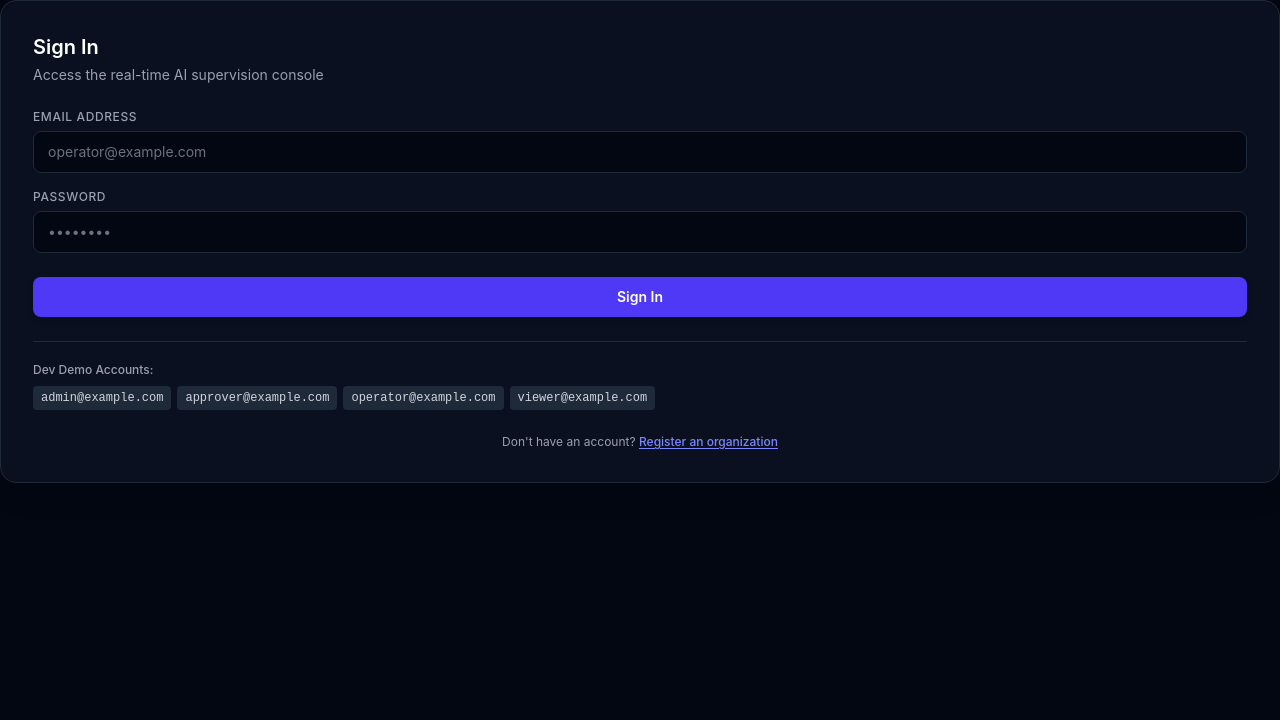
Test: Auth Integration and Unit Tests › 1. Login shows the server error message on a 401
The image size is (1280, 720).
Type "user@example.com" into the field labelled "Email Address" at (640, 152), box 33,131 -> 1247,173
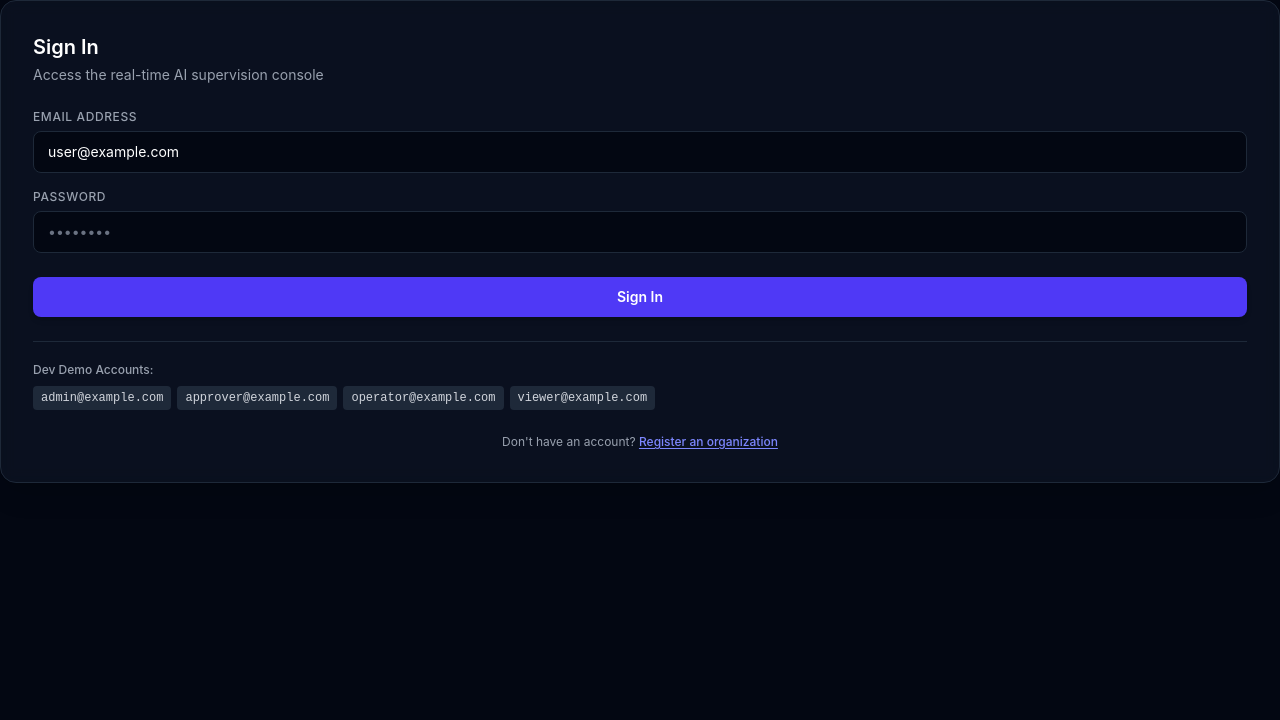
Type "WrongPassword123" into the password field labelled "Password" at (640, 232), box 33,211 -> 1247,253
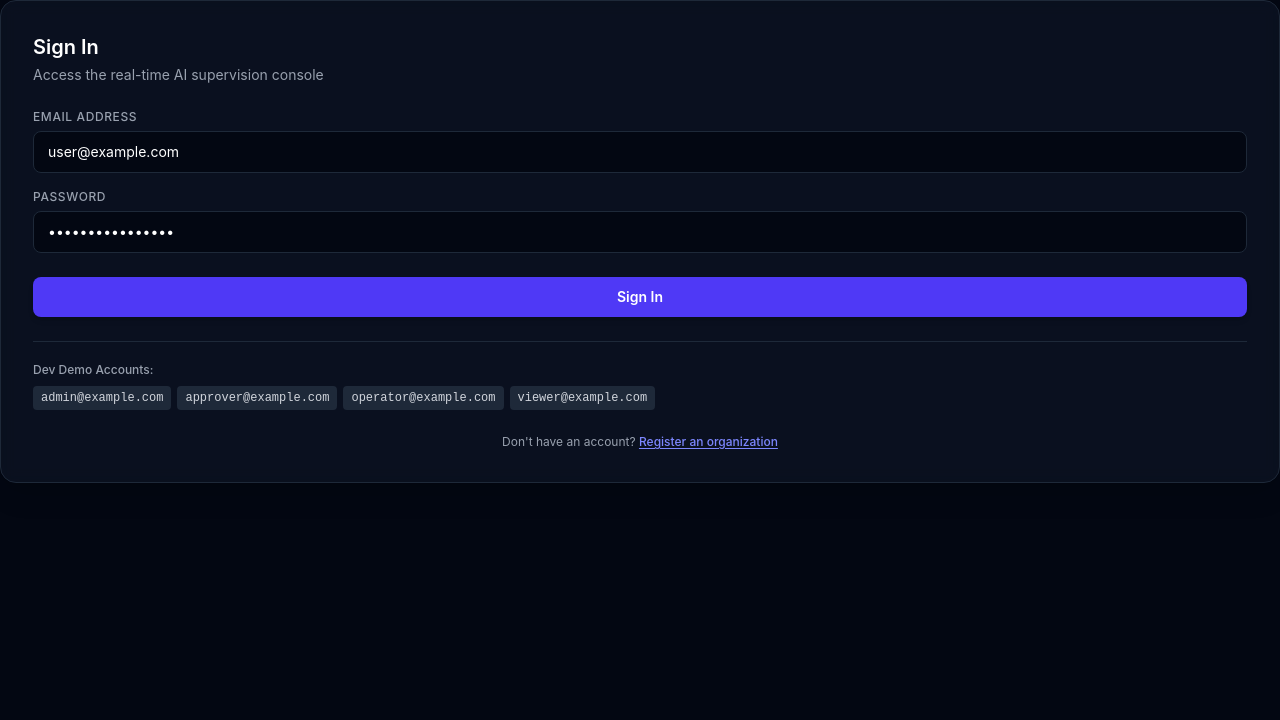
Click the button "Sign In" at (640, 297), box 33,277 -> 1247,317
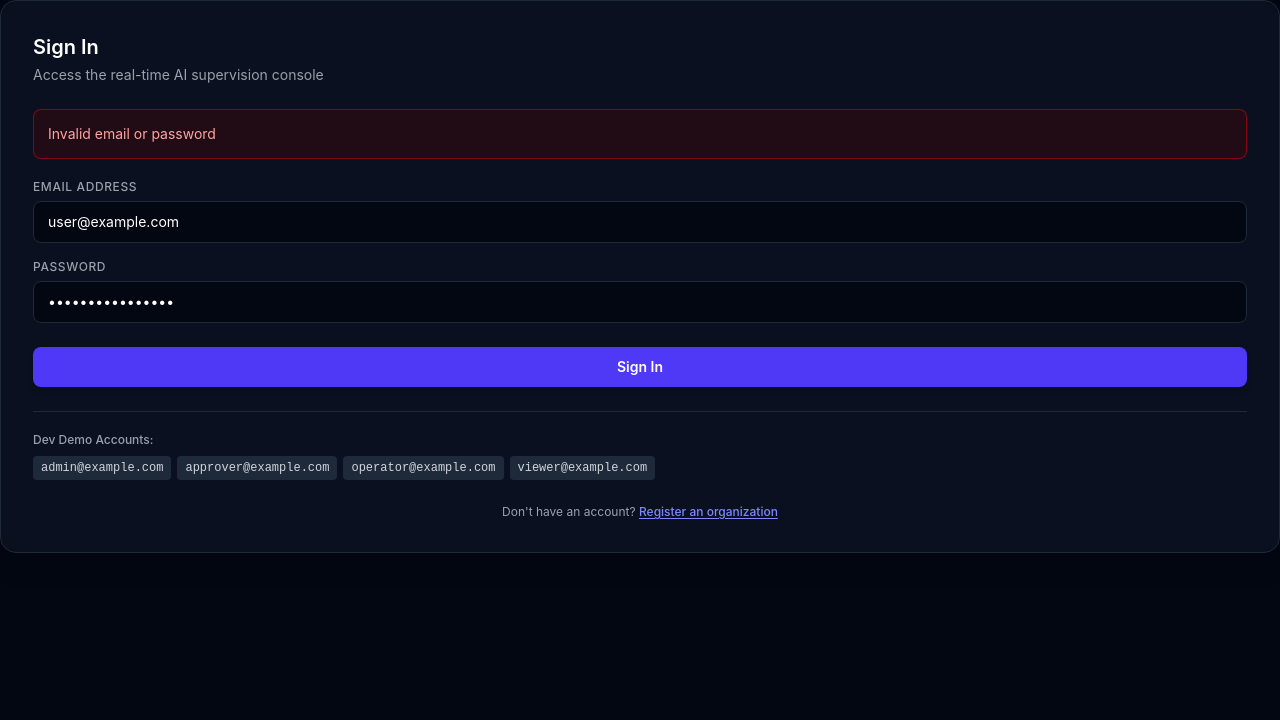
Expected: the message reads "Invalid email or password", 48,125 -> 216,142
